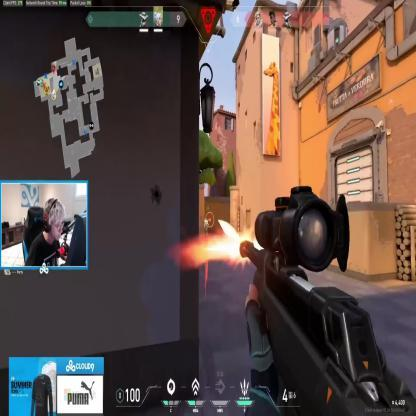enemy: (204, 218, 209, 238)
enemy_head: (205, 218, 207, 221)
